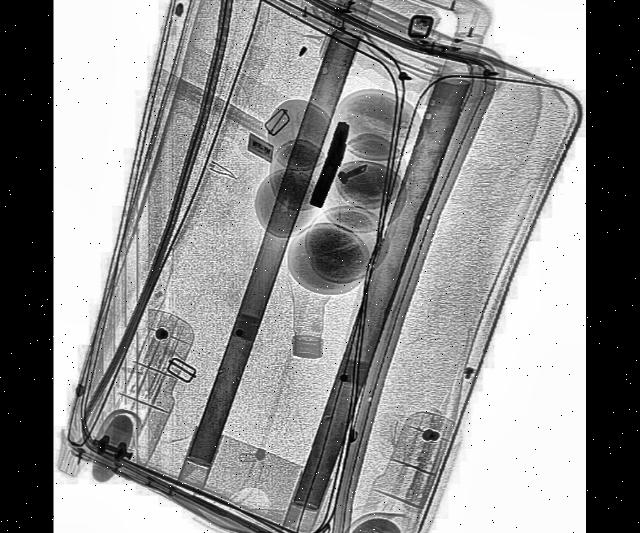Gun: (310, 114, 356, 212)
